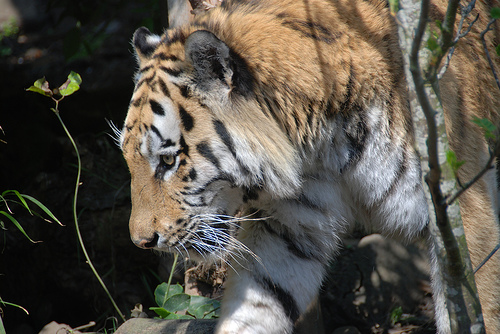Tigre: (105, 9, 479, 304)
